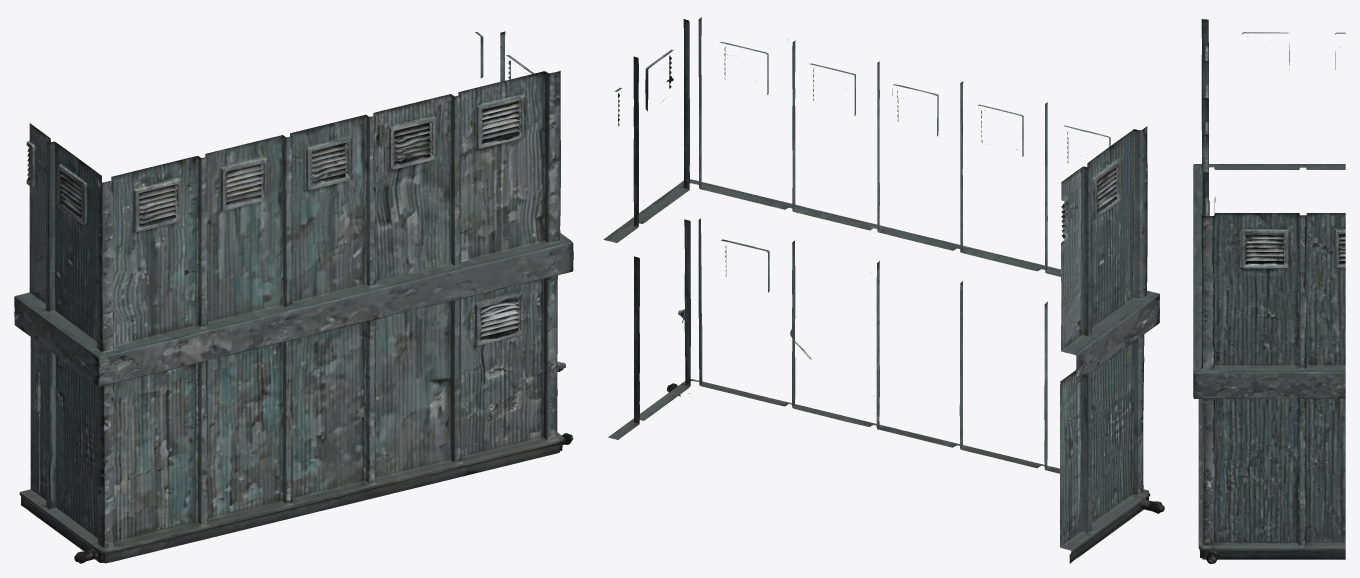
File: plant.glb
3 renders of one model, left to right at view 1: azimuth 30°, elevation 25°; view 2: azimuth 150°, elevation 25°; view 3: azimuth 270°, elevation 25°, orthographic. The views are drawn at different scales.
Parts seen in each view (by area): view 1: facade; view 2: facade; view 3: facade.
Part boxes in pixels (<box>): facade: <box>14,31,573,563</box>; facade: <box>603,17,1164,563</box>; facade: <box>1193,19,1345,563</box>.
Bounding box in the file's own units: 0.9869 × 0.7239 × 0.2916.
Materials: 1 (1 with a texture image).
